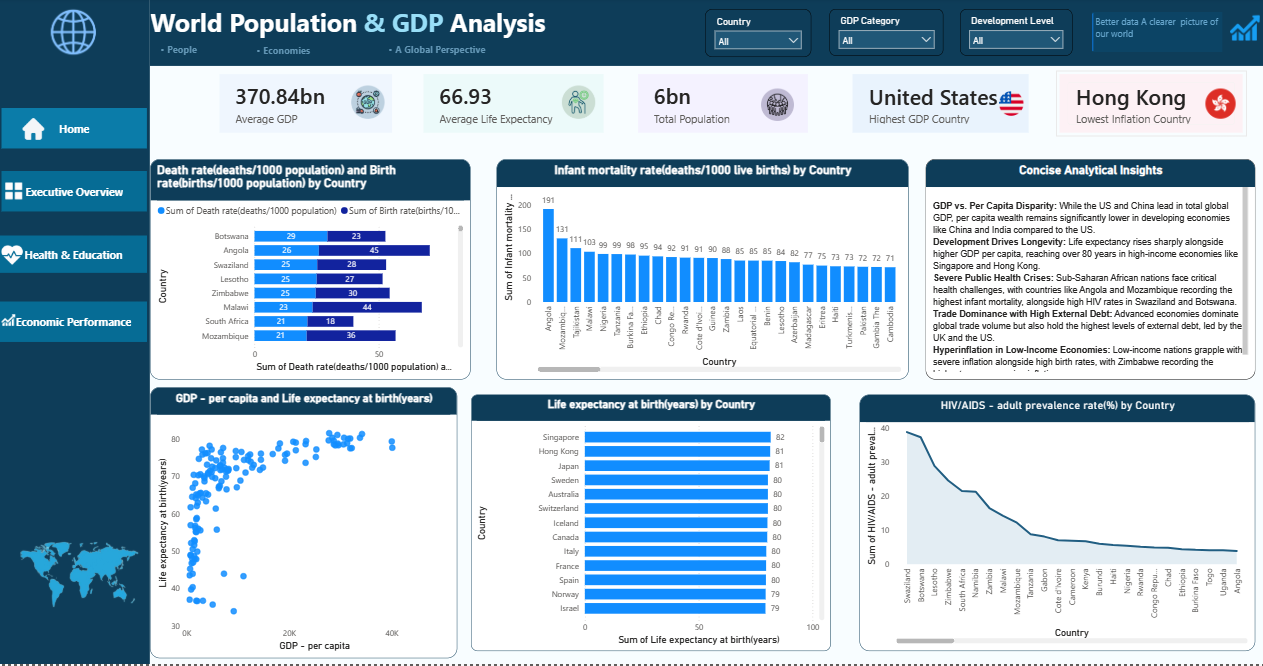

The page's visual inventory and layout, read from the dashboard file:
{"tool":"powerbi","page":{"name":"Health & Education Analysis","canvas":[1900,1000],"ordinal":2},"visuals":[{"type":"barChart","title":"Death rate(deaths/1000 population) and Birth rate(births/1000 population) by Country","fields":{"Category":["Country Data Comparison.Country"],"Y":["Sum(Country Data Comparison.Death rate(deaths/1000 population))","Sum(Country Data Comparison.Birth rate(births/1000 population))"]},"box":[224.8,242.7,481,330.4],"z":0},{"type":"scatterChart","fields":{"X":["Country Data Comparison.GDP - per capita"],"Y":["Country Data Comparison.Life expectancy at birth(years)"]},"box":[224.8,584.4,460.8,406.8],"z":1000},{"type":"clusteredColumnChart","title":" Infant mortality rate(deaths/1000 live births) by Country","fields":{"Category":["Country Data Comparison.Country"],"Y":["Sum(Country Data Comparison.Infant mortality rate(deaths/1000 live births))"]},"box":[744,242.7,618.1,330.4],"z":2000},{"type":"stackedAreaChart","title":"HIV/AIDS - adult prevalence rate(%) by Country","fields":{"Category":["Country Data Comparison.Country"],"Y":["Sum(Country Data Comparison.HIV/AIDS - adult prevalence rate(%))"]},"box":[1287.9,595.6,593.4,384.3],"z":3000},{"type":"clusteredBarChart","title":" Life expectancy at birth(years) by Country","fields":{"Category":["Country Data Comparison.Country"],"Y":["Sum(Country Data Comparison.Life expectancy at birth(years))"]},"box":[705.8,595.6,539.4,384.3],"z":4000},{"type":"shape","box":[1596.7,29.2,182.1,56.2],"z":5000},{"type":"textbox","title":" Concise Analytical Insights","box":[1386.8,242.7,494.5,330.4],"z":6000},{"type":"shape","box":[0,2.2,224.9,998.5],"z":7000},{"type":"shape","box":[224.9,0,1675.5,103.5],"z":8000},{"type":"image","box":[0,0,220.3,105.6],"z":9000},{"type":"textbox","box":[220.3,6.7,658.6,76.4],"z":10000},{"type":"textbox","box":[1637.5,22.5,195,60],"z":11000},{"type":"shape","box":[1546.4,24.7,182.1,56.2],"z":12000},{"type":"image","box":[1844.4,11.1,45,69.7],"z":13000},{"type":"textbox","box":[224.8,62.9,110.1,31.5],"z":17000},{"type":"textbox","box":[368.6,65.2,148.3,29.2],"z":18000},{"type":"textbox","box":[566.4,62.9,204.5,42.7],"z":19000},{"type":"cardVisual","fields":{"Data":["Table Measure.Average GDP"]},"box":[323.7,110.1,269.7,98.9],"z":20000},{"type":"cardVisual","fields":{"Data":["Table Measure.Average Life Expectancy"]},"box":[629.3,110.1,281,98.9],"z":21000},{"type":"cardVisual","fields":{"Data":["Table Measure.Total Population"]},"box":[950.8,110.1,265.2,98.9],"z":22000},{"type":"cardVisual","fields":{"Data":["Table Measure.Highest GDP Country"]},"box":[1272.2,110.1,274.2,98.9],"z":23000},{"type":"cardVisual","fields":{"Data":["Table Measure.Lowest Inflation Country"]},"box":[1582.3,110.1,285.5,98.9],"z":24000},{"type":"slicer","fields":{"Values":["Country Data Comparison.Country"]},"box":[1056.4,18,159.6,71.9],"z":25000},{"type":"slicer","fields":{"Values":["Country Data Comparison.GDP Category "]},"box":[1242.9,18,170.8,69.7],"z":26000},{"type":"slicer","fields":{"Values":["Country Data Comparison.Development Level"]},"box":[1438.5,18,168.6,69.7],"z":27000},{"type":"image","box":[1497.3,121.8,36.4,76.4],"z":28000},{"type":"image","box":[1769.1,137.3,120,45],"z":29000},{"type":"image","box":[1136.2,137.5,60,48.8],"z":30000},{"type":"image","box":[840,133.3,52.2,50],"z":31000},{"type":"image","box":[516.7,133.3,68.9,50],"z":32000},{"type":"actionButton","box":[2.2,260.9,218.1,60.7],"z":32001},{"type":"actionButton","box":[0,357.6,220.4,56.2],"z":32002},{"type":"actionButton","box":[0,456.5,220.4,60.7],"z":32003},{"type":"actionButton","box":[2.2,166.4,218.1,60.7],"z":32004},{"type":"image","box":[34.2,164.2,32.5,67.5],"z":32005},{"type":"image","box":[2.5,368.3,31.7,35.8],"z":32006},{"type":"image","box":[0,271.7,41.7,37.5],"z":32007},{"type":"image","box":[2.3,470.8,20.8,29.2],"z":32008},{"type":"image","box":[0,733.2,240.6,265.4],"z":32009}]}

Visuals, with their boxes on the page's 1900x1000 design canvas (x1, y1, x2, y2). These are canvas units, not pixel positions in the 1263x666 screenshot, which may show the page scaled, cropped or inside an application window:
"Death rate(deaths/1000 population) and Birth rate(births/1000 population) by Country" barChart: <region>225, 243, 706, 573</region>
scatterChart - Country Data Comparison.GDP - per capita x Country Data Comparison.Life expectancy at birth(years): <region>225, 584, 686, 991</region>
" Infant mortality rate(deaths/1000 live births) by Country" clusteredColumnChart: <region>744, 243, 1362, 573</region>
"HIV/AIDS - adult prevalence rate(%) by Country" stackedAreaChart: <region>1288, 596, 1881, 980</region>
" Life expectancy at birth(years) by Country" clusteredBarChart: <region>706, 596, 1245, 980</region>
shape: <region>1597, 29, 1779, 85</region>
" Concise Analytical Insights" textbox: <region>1387, 243, 1881, 573</region>
shape: <region>0, 2, 225, 1001</region>
shape: <region>225, 0, 1900, 104</region>
image: <region>0, 0, 220, 106</region>
textbox: <region>220, 7, 879, 83</region>
textbox: <region>1638, 22, 1832, 82</region>
shape: <region>1546, 25, 1728, 81</region>
image: <region>1844, 11, 1889, 81</region>
textbox: <region>225, 63, 335, 94</region>
textbox: <region>369, 65, 517, 94</region>
textbox: <region>566, 63, 771, 106</region>
cardVisual - Table Measure.Average GDP: <region>324, 110, 593, 209</region>
cardVisual - Table Measure.Average Life Expectancy: <region>629, 110, 910, 209</region>
cardVisual - Table Measure.Total Population: <region>951, 110, 1216, 209</region>
cardVisual - Table Measure.Highest GDP Country: <region>1272, 110, 1546, 209</region>
cardVisual - Table Measure.Lowest Inflation Country: <region>1582, 110, 1868, 209</region>
slicer - Country Data Comparison.Country: <region>1056, 18, 1216, 90</region>
slicer - Country Data Comparison.GDP Category : <region>1243, 18, 1414, 88</region>
slicer - Country Data Comparison.Development Level: <region>1438, 18, 1607, 88</region>
image: <region>1497, 122, 1534, 198</region>
image: <region>1769, 137, 1889, 182</region>
image: <region>1136, 138, 1196, 186</region>
image: <region>840, 133, 892, 183</region>
image: <region>517, 133, 586, 183</region>
actionButton: <region>2, 261, 220, 322</region>
actionButton: <region>0, 358, 220, 414</region>
actionButton: <region>0, 456, 220, 517</region>
actionButton: <region>2, 166, 220, 227</region>
image: <region>34, 164, 67, 232</region>
image: <region>2, 368, 34, 404</region>
image: <region>0, 272, 42, 309</region>
image: <region>2, 471, 23, 500</region>
image: <region>0, 733, 241, 999</region>
